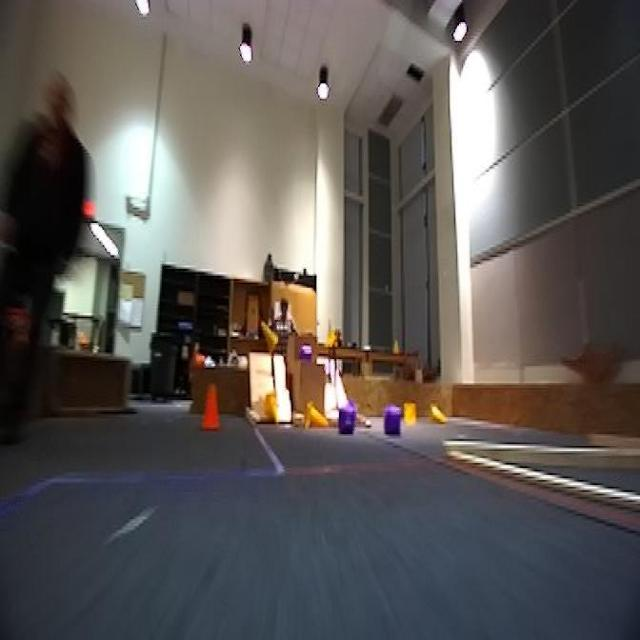frc_cone: (304, 398, 329, 432), (258, 318, 280, 354), (261, 390, 282, 425), (322, 320, 338, 354), (402, 400, 417, 436), (428, 403, 448, 429)
frc_cube: (382, 403, 405, 441), (336, 405, 354, 438), (297, 337, 315, 364)
